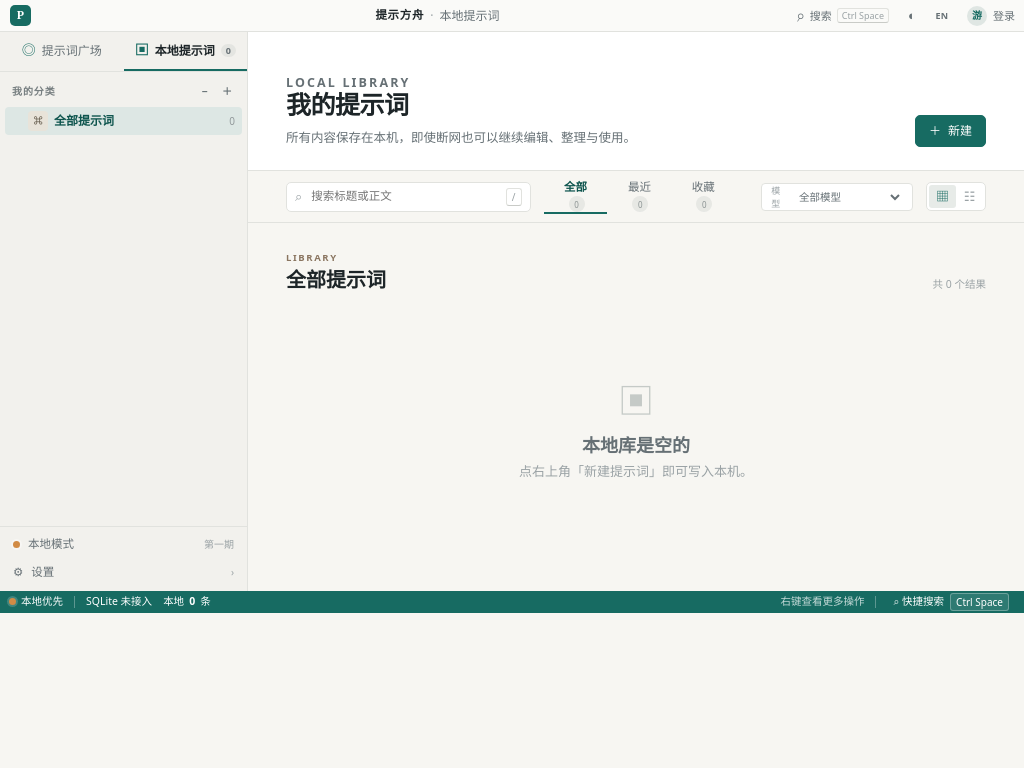
WorkbenchShell › opens login from favorite without writing a local copy
Click the tab "◎ 提示词广场" at (62, 52), box [0,32,124,71]
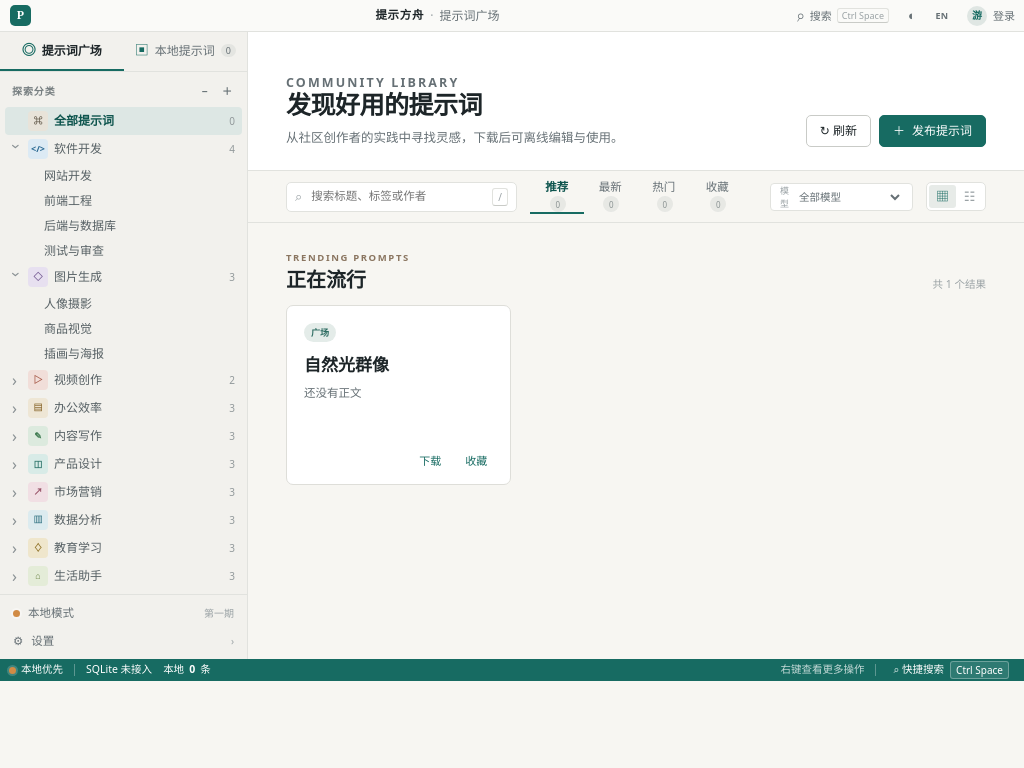
Click the button with test id "favorite-square" at (476, 461), box [459,452,493,470]
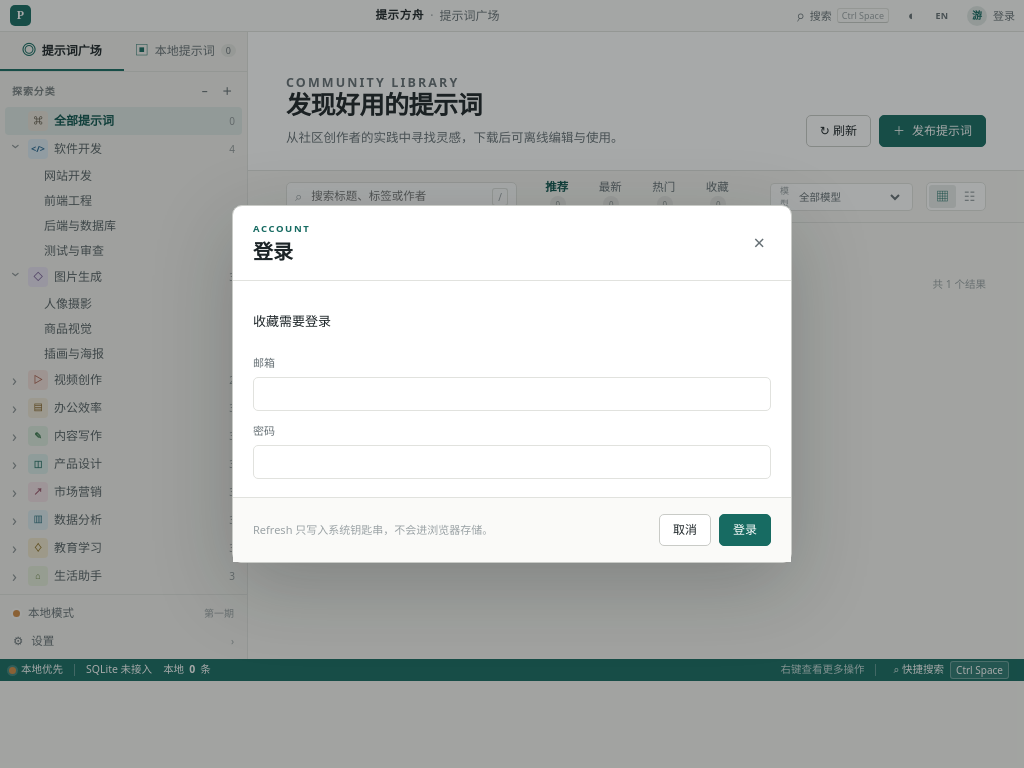
Result: the text with test id "login-reason" shows "收藏" at [253,312,331,330]
